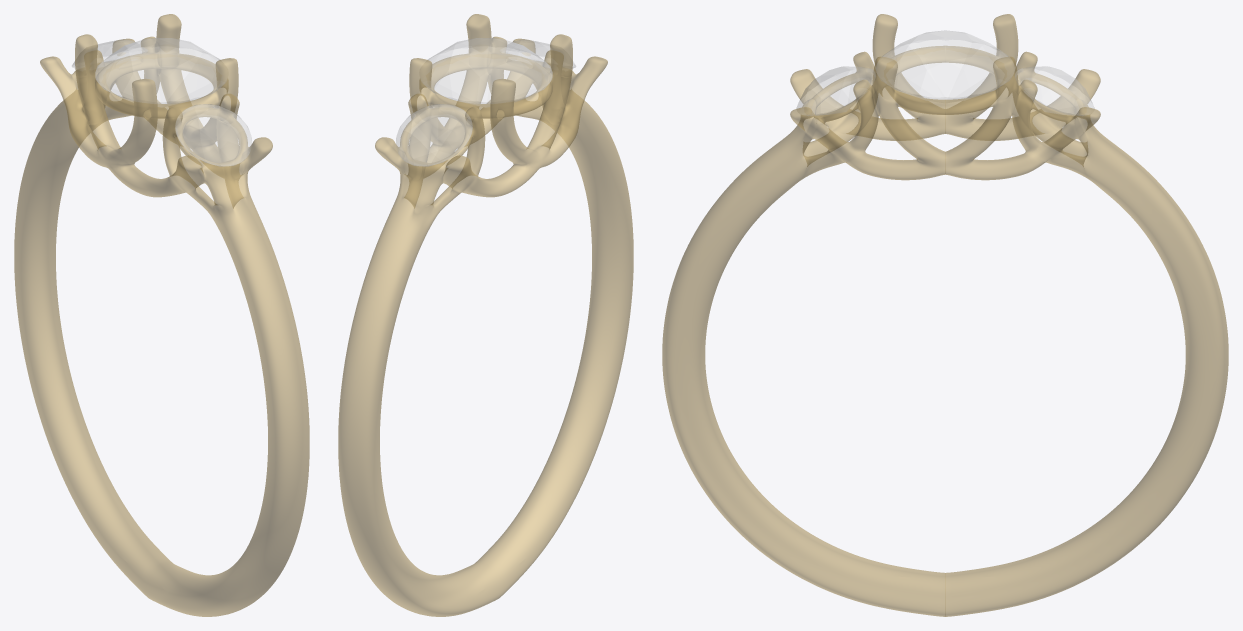
3 views of the same model, side by side, from view 1: azimuth 30°, elevation 25°; view 2: azimuth 150°, elevation 25°; view 3: azimuth 270°, elevation 25° (orthographic). The views are drawn at different scales.
Visible parts, largest first — view 1: Ring, Diamond; view 2: Ring, Diamond; view 3: Ring, Diamond.
Part boxes in pixels (x1,y1,x2,y2): Ring: (14, 14, 309, 616); Diamond: (72, 38, 251, 166); Ring: (338, 14, 633, 616); Diamond: (396, 38, 575, 166); Ring: (662, 14, 1228, 616); Diamond: (796, 30, 1094, 115).
Size of the model in its own units: 0.5731 by 2.59 by 2.32.
